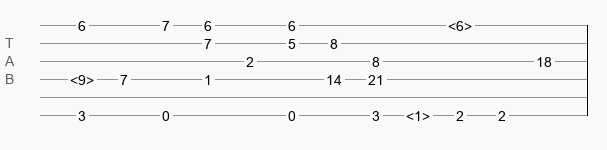0: (162, 108, 170, 118), (288, 108, 296, 118)
1: (204, 72, 212, 82)
14: (326, 72, 342, 82)
18: (536, 54, 552, 64)
2: (246, 54, 254, 64), (456, 108, 464, 118), (498, 108, 506, 118)
21: (368, 72, 384, 82)
3: (78, 108, 86, 118), (372, 108, 380, 118)
5: (288, 36, 296, 46)
6: (78, 18, 86, 28), (204, 18, 212, 28), (288, 18, 296, 28)
7: (120, 72, 128, 82), (162, 18, 170, 28), (204, 36, 212, 46)
8: (330, 36, 338, 46), (372, 54, 380, 64)
harmonic: (70, 72, 94, 82), (406, 108, 430, 118), (448, 18, 472, 28)
